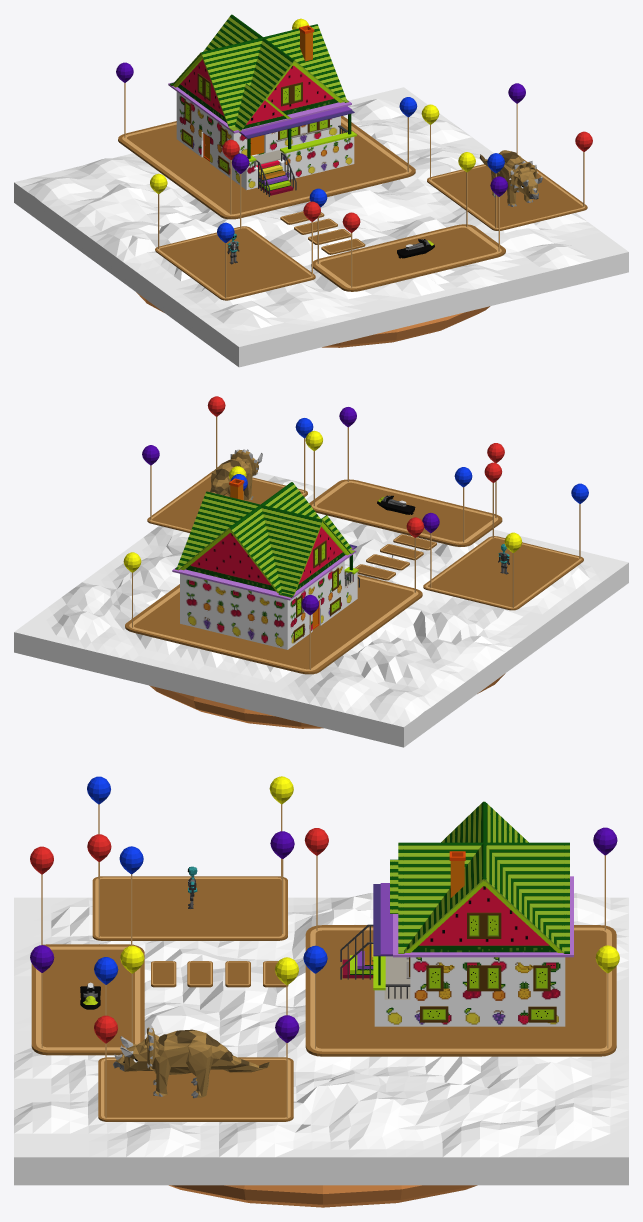
The picture shows the model from 3 angles, top to bottom: view 1: azimuth 30°, elevation 25°; view 2: azimuth 150°, elevation 25°; view 3: azimuth 270°, elevation 25°; orthographic projection. The views are drawn at different scales.
Visible parts, largest first — view 1: Cube.013, Cube.1063, ANIMAL_Triceratops, UNDERGROUND_PIZZA; view 2: Cube.013, Cube.1063, UNDERGROUND_PIZZA, ANIMAL_Triceratops; view 3: Cube.013, Cube.1063, ANIMAL_Triceratops, UNDERGROUND_PIZZA.
Boxes of the visible parts, x1,y1,x2,y2 form: Cube.013: (14, 18, 628, 367); Cube.1063: (168, 14, 356, 196); ANIMAL_Triceratops: (479, 150, 542, 206); UNDERGROUND_PIZZA: (136, 292, 490, 347); Cube.013: (14, 396, 628, 747); Cube.1063: (172, 478, 359, 649); UNDERGROUND_PIZZA: (149, 673, 505, 728); ANIMAL_Triceratops: (210, 449, 262, 499); Cube.013: (14, 776, 628, 1185); Cube.1063: (340, 801, 573, 1026); ANIMAL_Triceratops: (113, 1025, 269, 1098); UNDERGROUND_PIZZA: (169, 1185, 477, 1207).
Bounding box in the file's own units: 4000 × 1899 × 4000.
36 materials, 3 textured.
